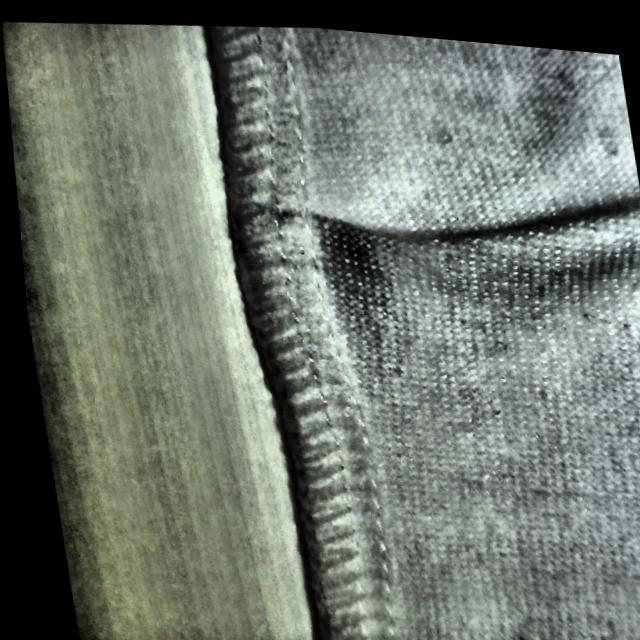seam: (213, 127, 561, 327)
